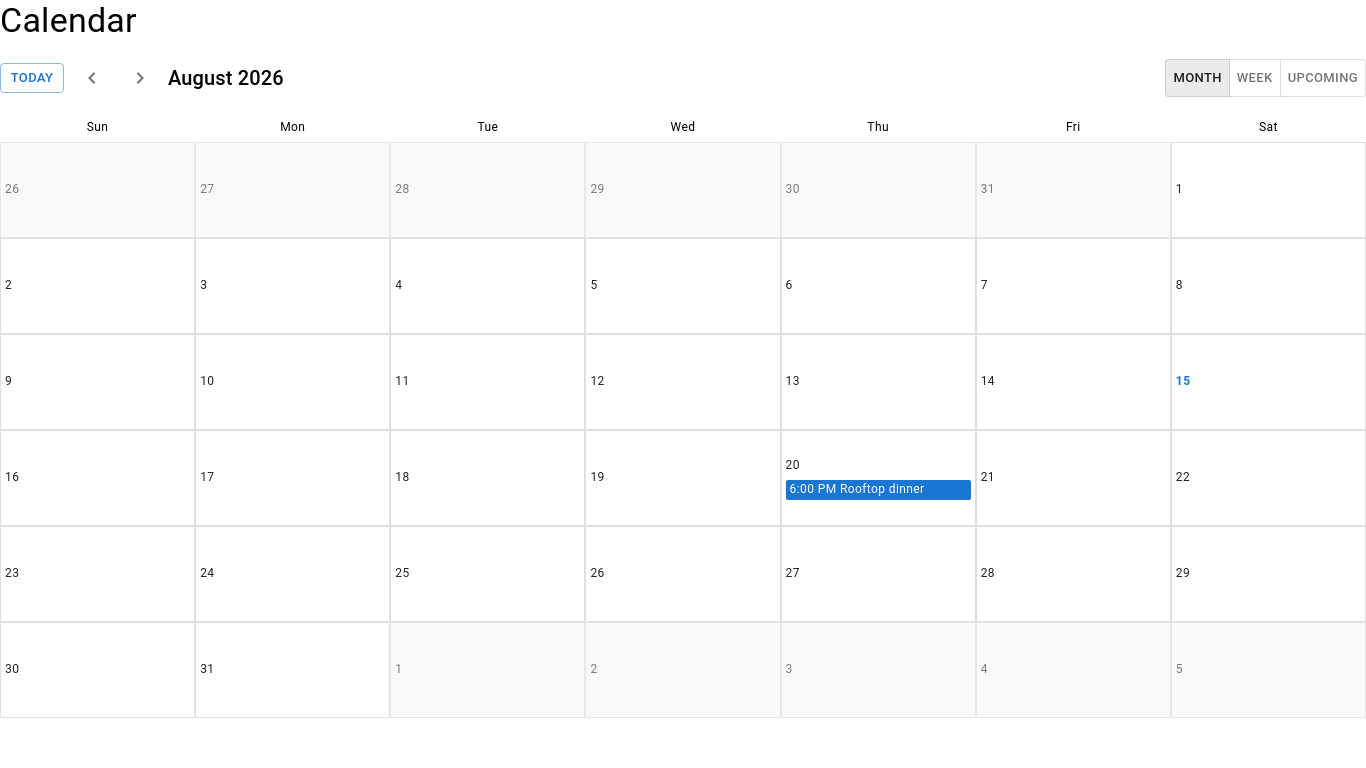
Test: CalendarPage › clicking an event opens its details dialog with title, time, and styling status
Click the button "6:00 PM Rooftop dinner" at x=878, y=490, box [786,480,971,500]
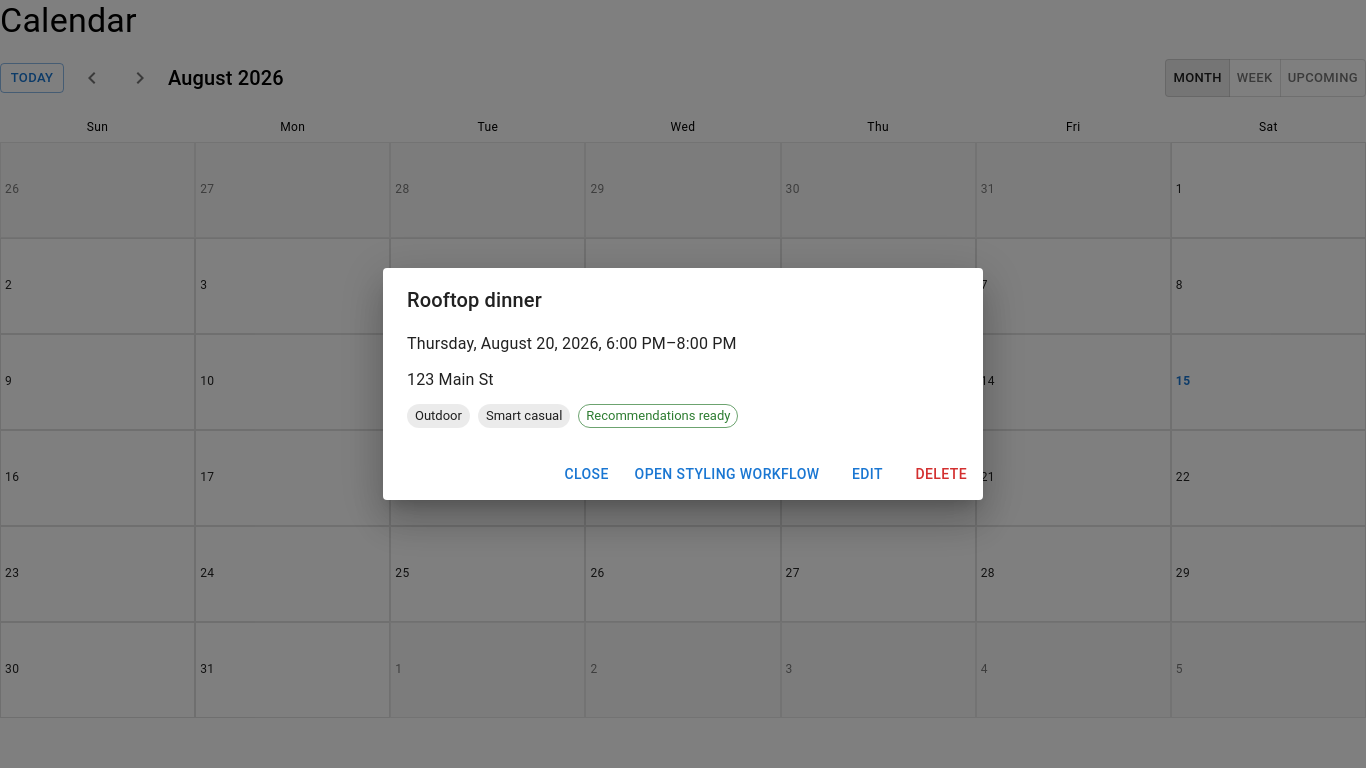
Result: the text "123 Main St" is shown at [407,370,494,389]
Result: the text "Recommendations ready" is shown at [579,406,737,426]
